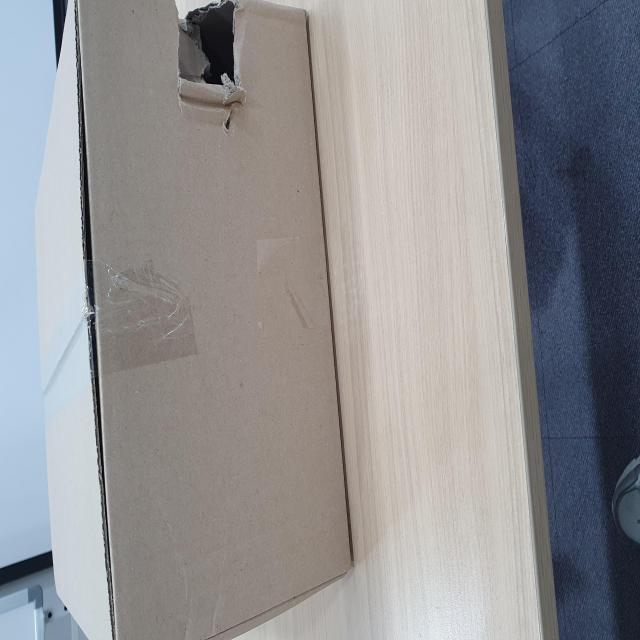damaged: (301, 291, 360, 430)
